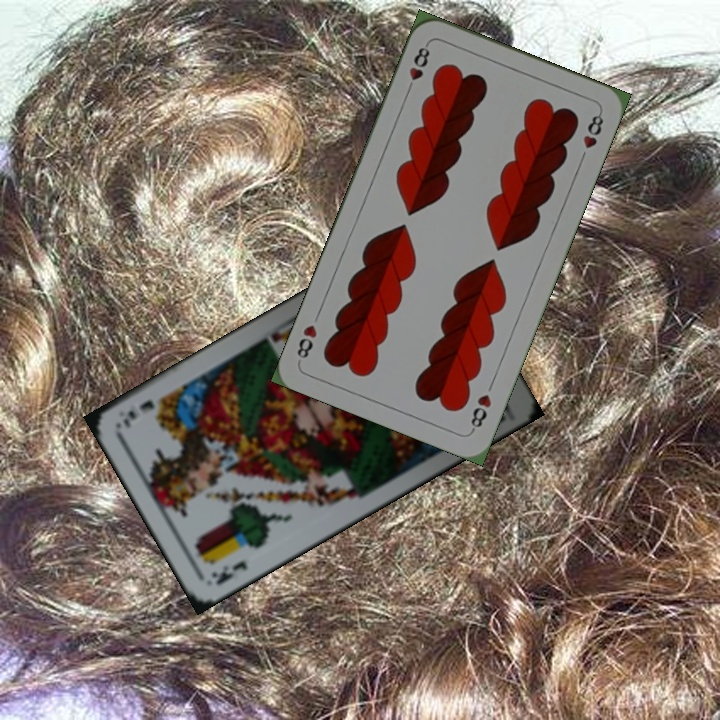EK: (207, 556, 251, 588)
H8: (402, 39, 433, 96), (466, 390, 494, 434)
